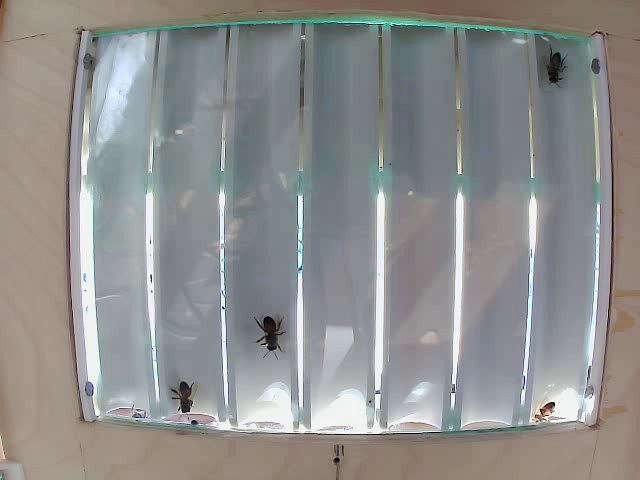bee: (253, 311, 302, 364), (166, 376, 207, 417), (547, 48, 570, 92)
